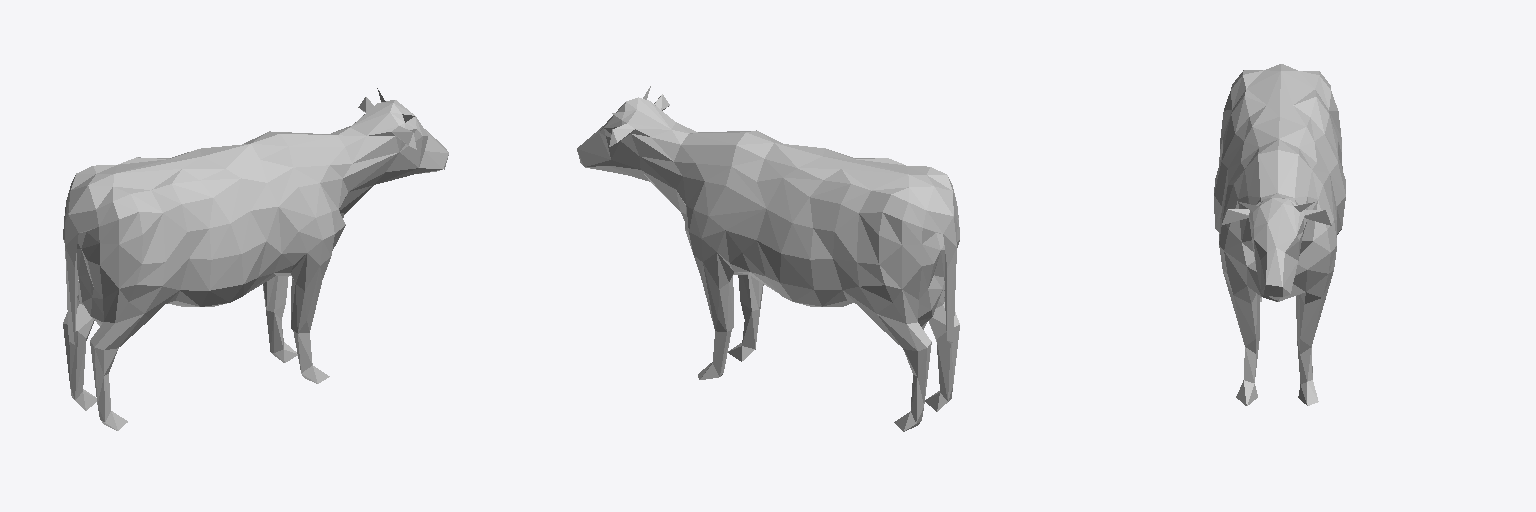
Rendered from cow2.obj.
3 views of the same model, side by side, from view 1: azimuth 30°, elevation 25°; view 2: azimuth 150°, elevation 25°; view 3: azimuth 270°, elevation 25° (orthographic).
Parts seen in each view (by area): view 1: grp1; view 2: grp1; view 3: grp1.
Boxes of the visible parts, x1,y1,x2,y2 form: grp1: [63, 88, 448, 430]; grp1: [577, 86, 959, 431]; grp1: [1214, 64, 1345, 405].
Bounding box in the file's own units: 1456 × 903 × 438.